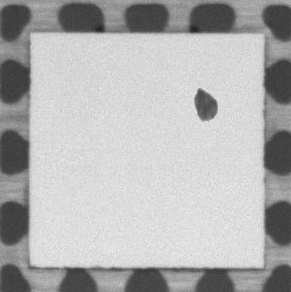DIE_INK: (192, 85, 219, 124)
